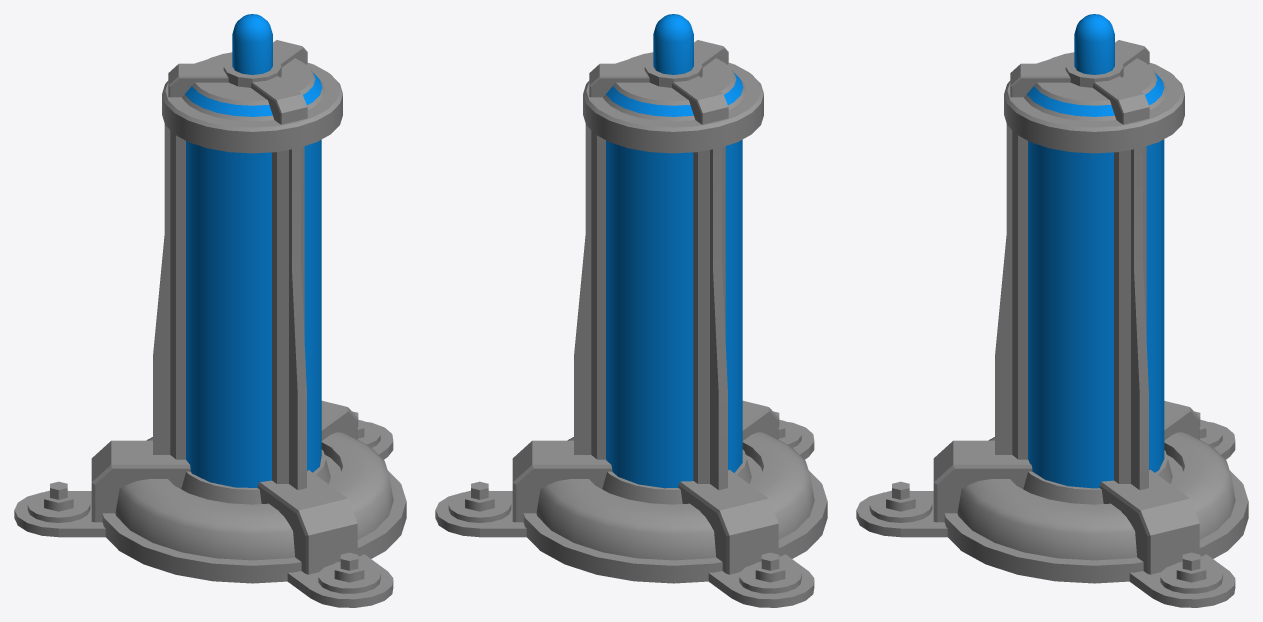
Rendered from CapturePoint1.FBX.
The picture shows the model from 3 angles, left to right: view 1: azimuth 30°, elevation 25°; view 2: azimuth 150°, elevation 25°; view 3: azimuth 270°, elevation 25°; orthographic projection.
Parts seen in each view (by area): view 1: CapturePoint1_Pillar, CapturePoint1_base; view 2: CapturePoint1_Pillar, CapturePoint1_base; view 3: CapturePoint1_Pillar, CapturePoint1_base.
Part boxes in pixels (box(x1,y1,x2,y2)): CapturePoint1_Pillar: box(153, 14, 342, 490); CapturePoint1_base: box(14, 400, 406, 607); CapturePoint1_Pillar: box(574, 14, 763, 490); CapturePoint1_base: box(435, 400, 827, 607); CapturePoint1_Pillar: box(995, 14, 1184, 490); CapturePoint1_base: box(856, 401, 1248, 607).
Bounding box in the file's own units: 330 × 432 × 306.
